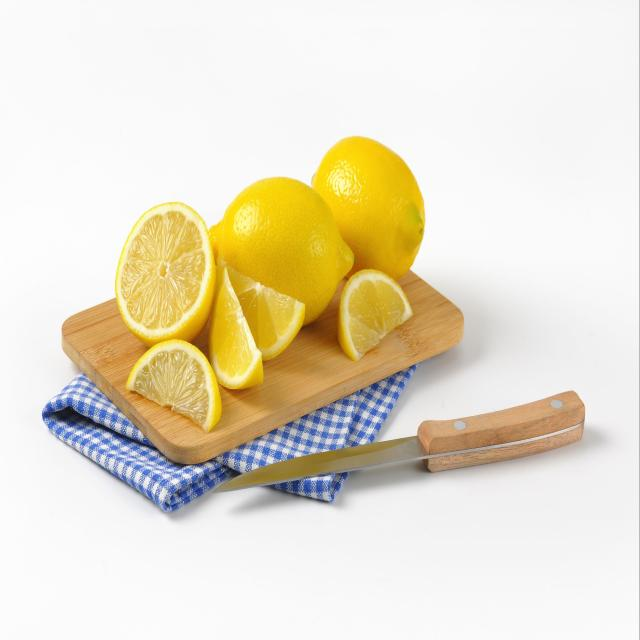lemon: (203, 172, 359, 331), (112, 200, 218, 347), (123, 337, 224, 436)
